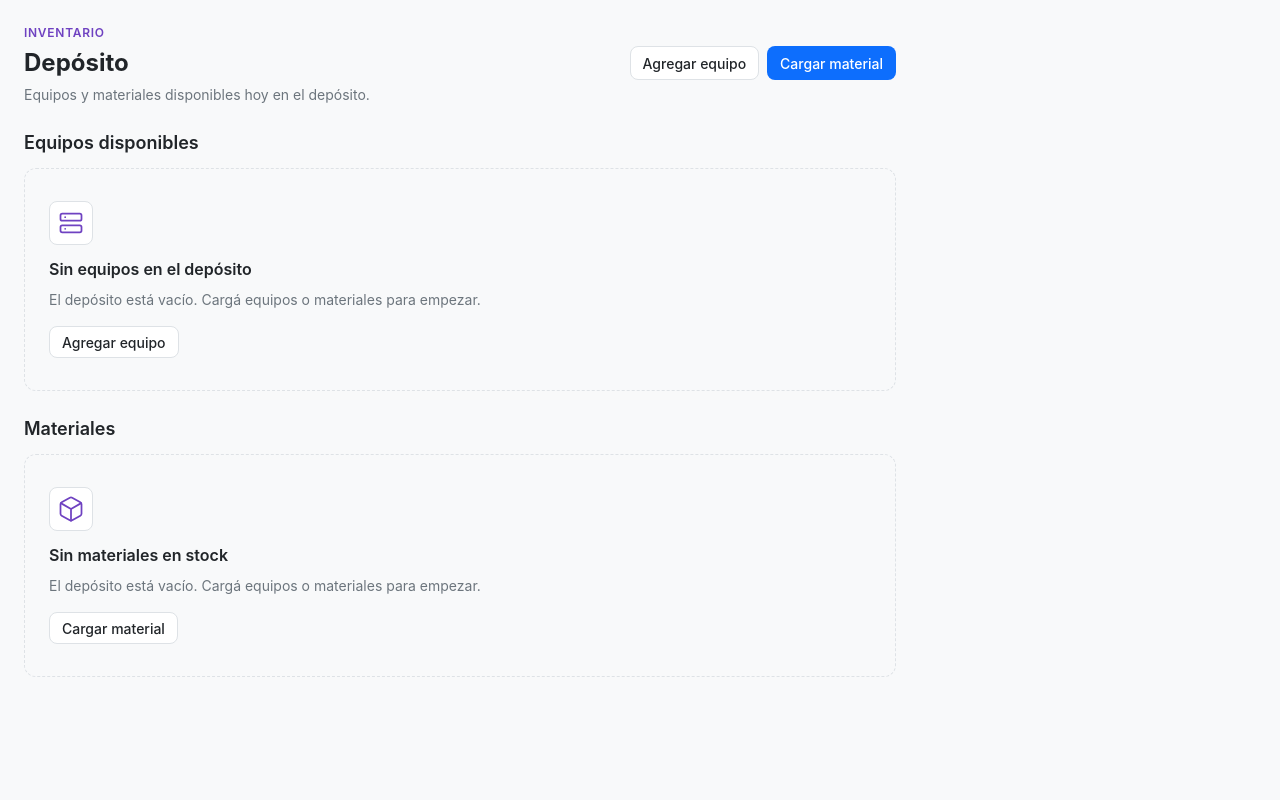
InventoryDepotPage — empty depot with inventory.write › opens the AddDepotAssetModal when "Agregar equipo" header button is clicked
Click the header button (first one with this name)
Click the 1st button "Agregar equipo": point(694, 63) [630,46,759,80]
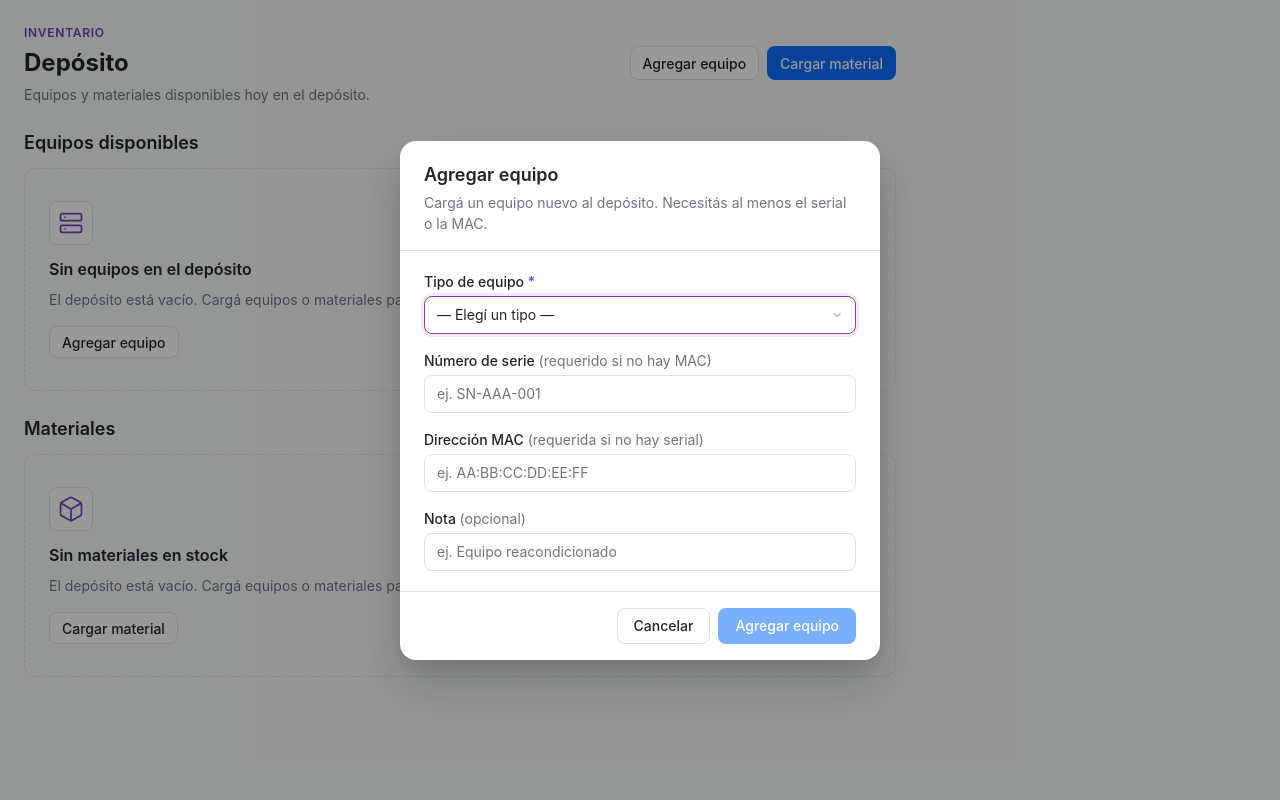
Result: the dialog "Agregar equipo" is shown at [400,140,880,660]
